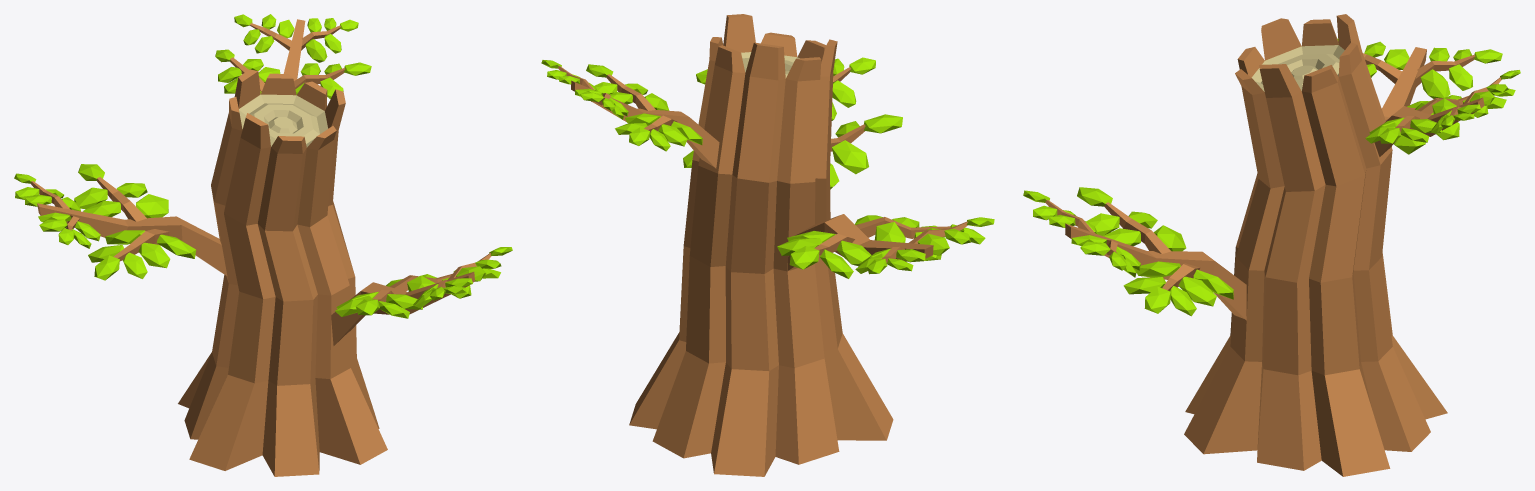
The model's file is Tree_12.fbx.
3 views of the same model, side by side, from view 1: azimuth 30°, elevation 25°; view 2: azimuth 150°, elevation 25°; view 3: azimuth 270°, elevation 25° (orthographic). The views are drawn at different scales.
Visible parts, largest first — view 1: tree_12; view 2: tree_12; view 3: tree_12.
Boxes of the visible parts, <box> form: tree_12: <box>14,14,512,476</box>; tree_12: <box>541,14,994,476</box>; tree_12: <box>1023,14,1520,476</box>.
Size of the model in its own units: 329 by 303 by 347.
